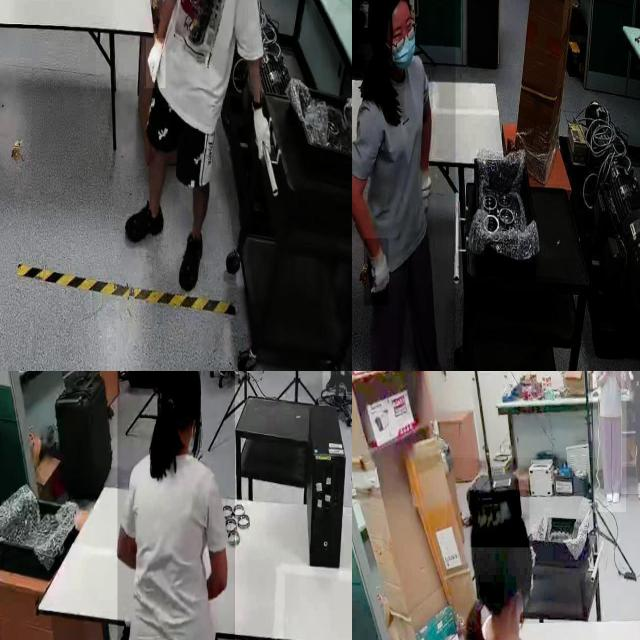face_mask: (380, 0, 422, 73)
hand_glove: (248, 100, 276, 170), (364, 238, 389, 307), (146, 38, 166, 88)
hand_noglove: (601, 371, 610, 377), (610, 371, 617, 377)
head_nohelmet: (470, 490, 530, 548), (158, 371, 201, 397)
person: (133, 0, 271, 300), (352, 0, 455, 371), (117, 371, 235, 640), (446, 457, 597, 640), (593, 371, 626, 513), (621, 371, 640, 495)
shoes: (174, 223, 206, 298), (124, 196, 166, 250), (342, 371, 352, 395), (611, 486, 623, 505), (603, 482, 613, 503), (635, 480, 640, 504)
